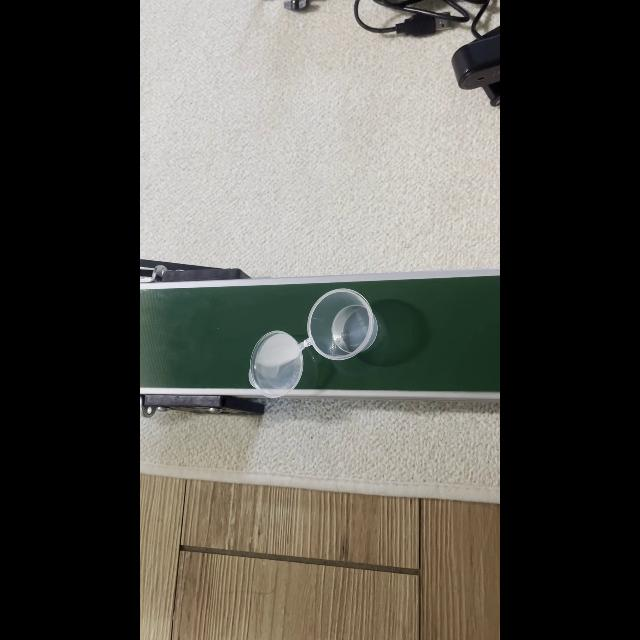clean: (307, 290, 373, 356), (247, 332, 307, 391)
